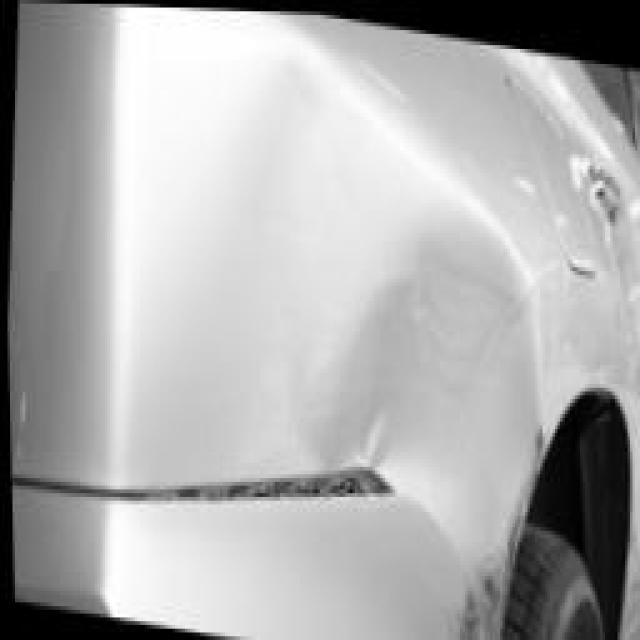Bumper: (8, 433, 514, 640)
Fender: (0, 23, 582, 536)
